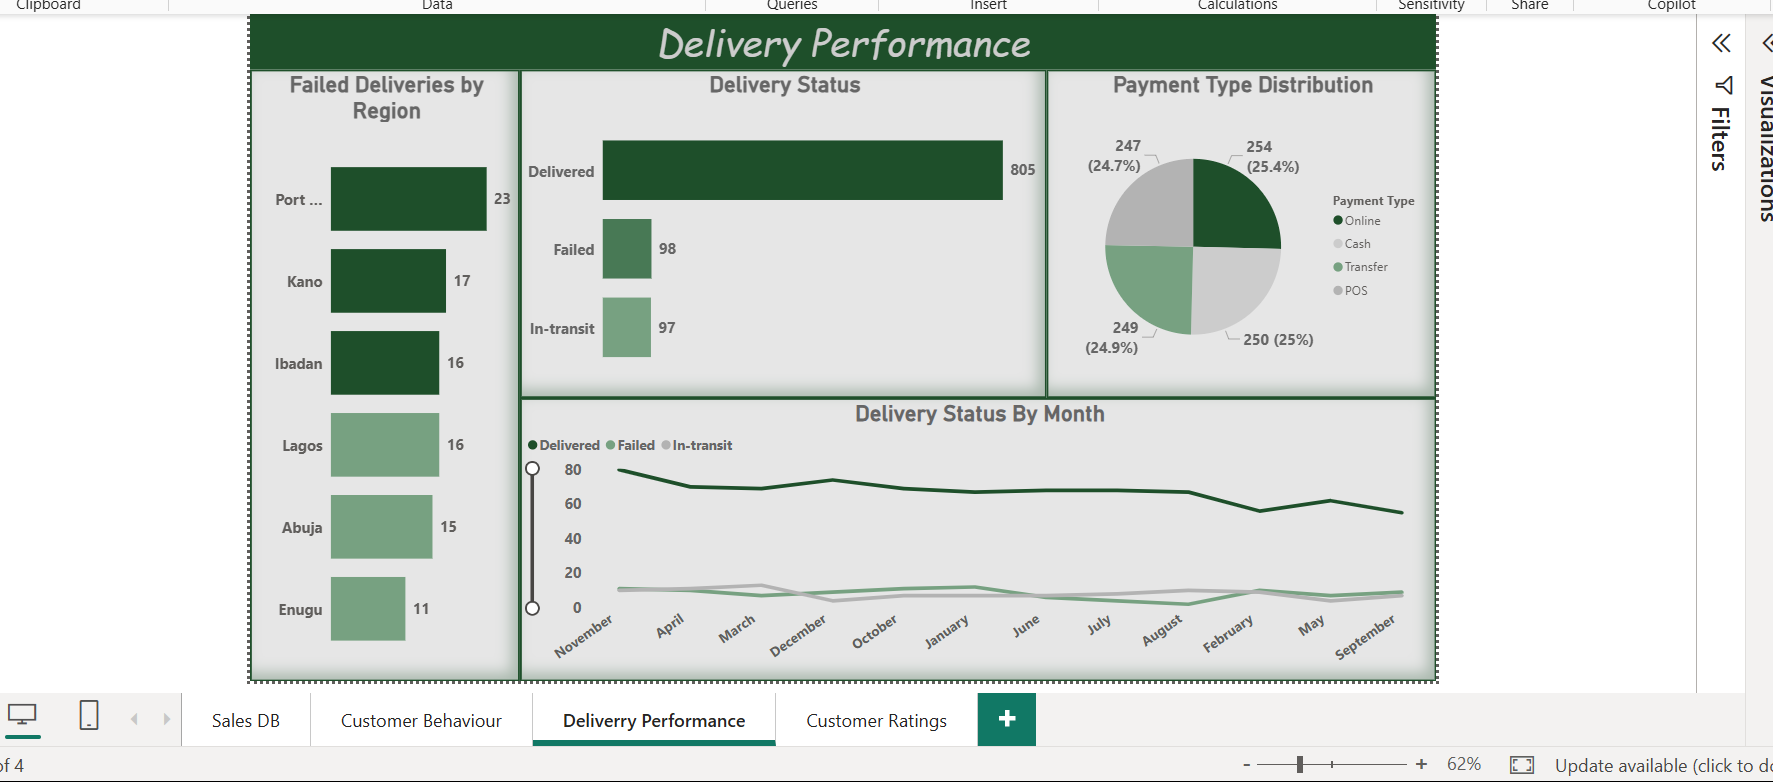

The dashboard page shown, as its layout file describes it:
{"tool":"powerbi","page":{"name":"Deliverry Performance","canvas":[1280,720],"ordinal":2},"visuals":[{"type":"shape","box":[0,0,1280.8,59.9],"z":0},{"type":"barChart","title":"Delivery Status","fields":{"Category":["Sheet1.Delivery Status"],"Y":["CountNonNull(Sheet1.Order ID)"]},"box":[291.5,59.9,568.3,354.6],"z":1000},{"type":"pieChart","title":"Payment Type Distribution","fields":{"Category":["Sheet1.Payment Type"],"Y":["CountNonNull(Sheet1.Order ID)"]},"box":[859.8,59.9,421,354.6],"z":2000},{"type":"lineChart","title":"Delivery Status By Month","fields":{"Category":["Sheet1.Month Name"],"Series":["Sheet1.Delivery Status"],"Y":["CountNonNull(Sheet1.Order ID)"]},"box":[291.5,414.5,989.3,306],"z":3000},{"type":"barChart","title":"Failed Deliveries by Region","fields":{"Category":["Sheet1.Region"],"Y":["CountNonNull(Sheet1.Order ID)"]},"box":[0,59.9,291.5,660.6],"z":4000}]}

Visuals, with their boxes on the page's 1280x720 design canvas (x1, y1, x2, y2). These are canvas units, not pixel positions in the 1773x782 screenshot, which may show the page scaled, cropped or inside an application window:
shape: {"left": 0, "top": 0, "right": 1281, "bottom": 60}
"Delivery Status" barChart: {"left": 292, "top": 60, "right": 860, "bottom": 414}
"Payment Type Distribution" pieChart: {"left": 860, "top": 60, "right": 1281, "bottom": 414}
"Delivery Status By Month" lineChart: {"left": 292, "top": 414, "right": 1281, "bottom": 720}
"Failed Deliveries by Region" barChart: {"left": 0, "top": 60, "right": 292, "bottom": 720}
